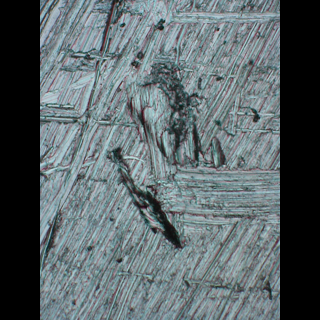d: (103, 21, 231, 253)
